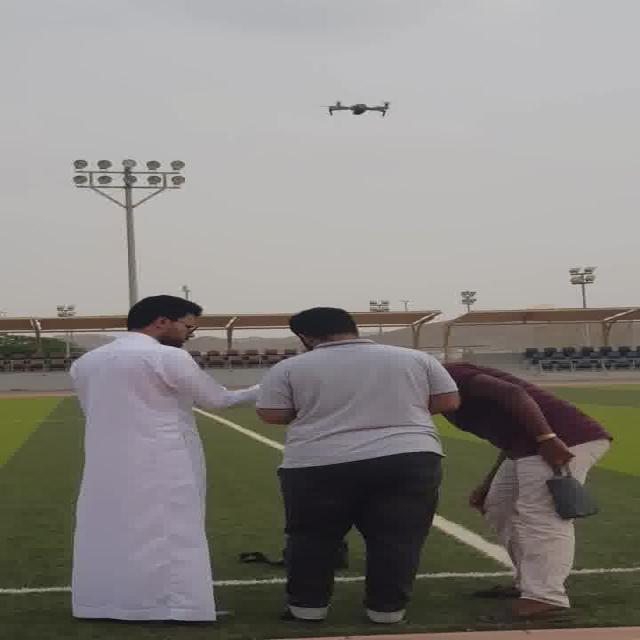drone: (319, 95, 398, 119)
